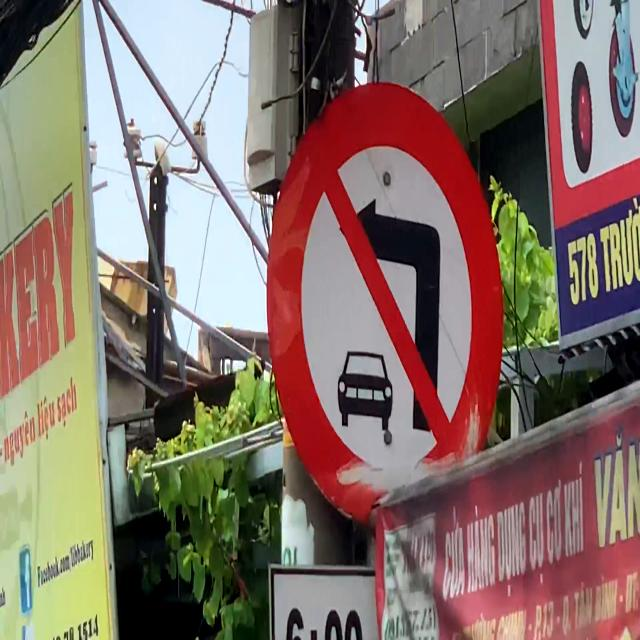P.123a: (264, 79, 506, 535)
